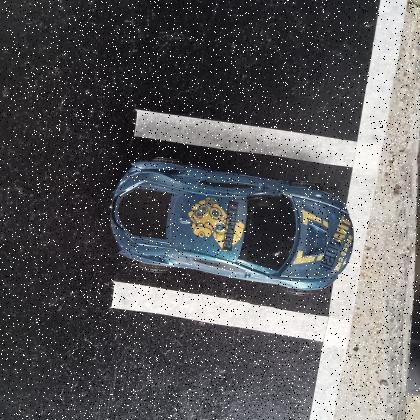Car: (110, 156, 354, 290)
